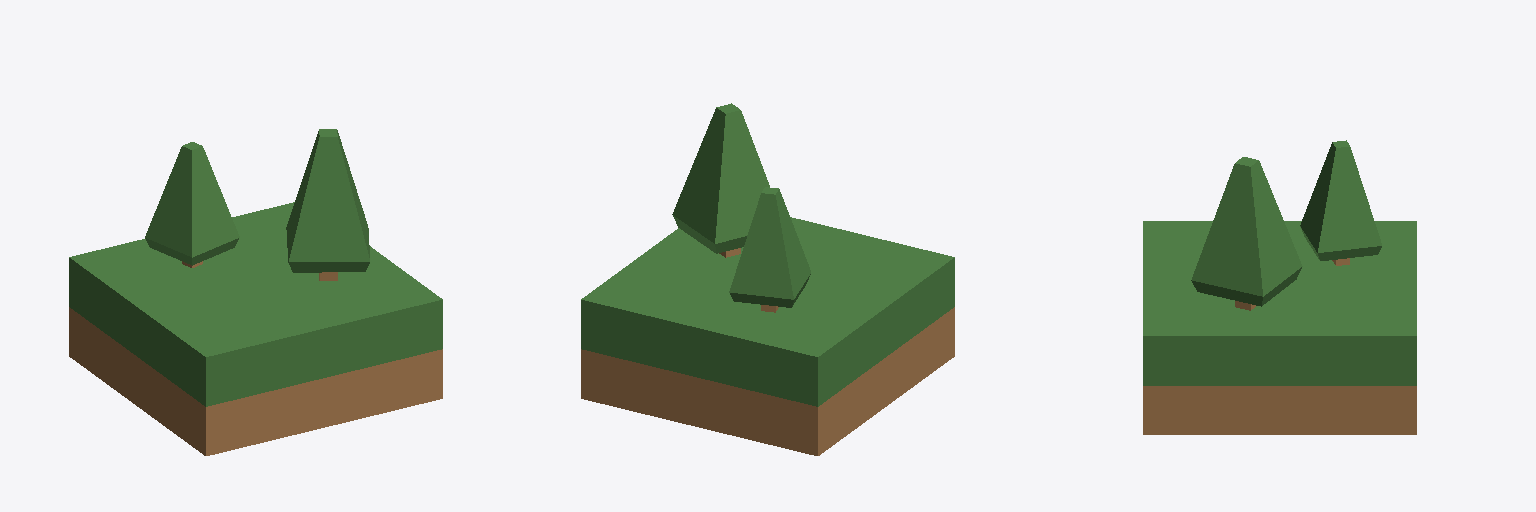
The model's file is tile_065.obj.
3 views of the same model, side by side, from view 1: azimuth 30°, elevation 25°; view 2: azimuth 150°, elevation 25°; view 3: azimuth 270°, elevation 25° (orthographic).
Visible parts, largest first — view 1: tile_065, Component#2; view 2: tile_065, Component#2; view 3: tile_065, Component#2.
Part boxes in pixels (bbox=[...]): tile_065: bbox=[69, 202, 442, 455]; Component#2: bbox=[145, 129, 369, 280]; tile_065: bbox=[581, 217, 954, 455]; Component#2: bbox=[672, 103, 810, 312]; tile_065: bbox=[1143, 221, 1416, 434]; Component#2: bbox=[1191, 140, 1381, 310].
Bounding box in the file's own units: 1 × 0.9802 × 1.